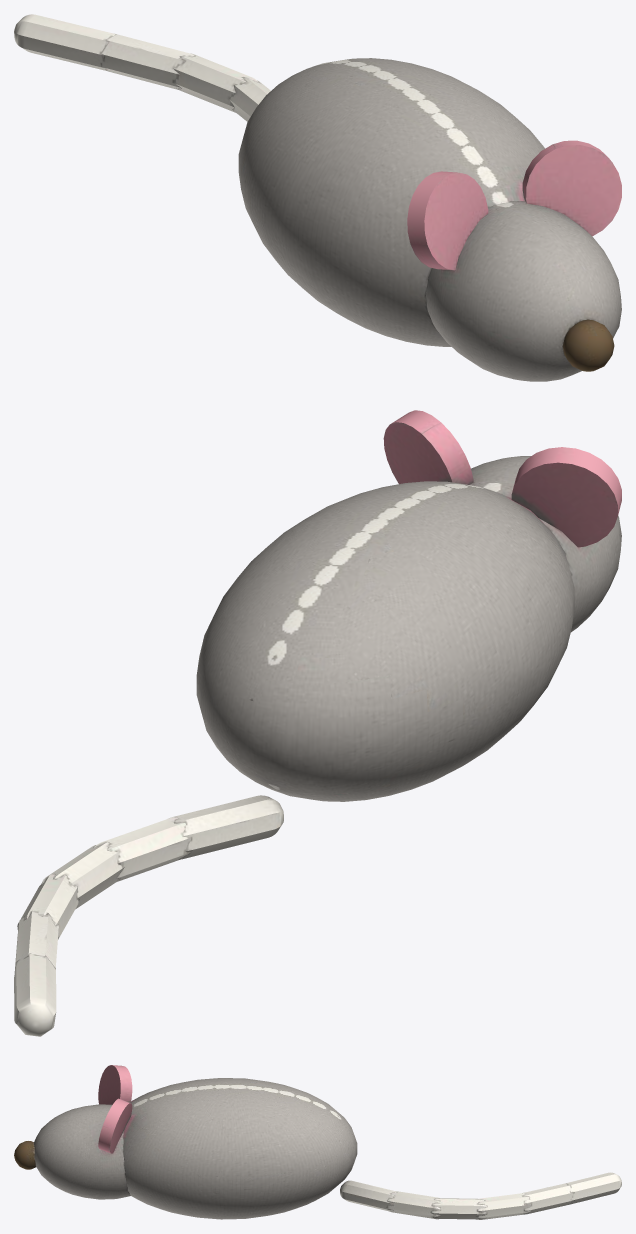
The model's file is mouse_toy.glb.
3 views of the same model, one above another, from view 1: azimuth 30°, elevation 25°; view 2: azimuth 150°, elevation 25°; view 3: azimuth 270°, elevation 25° (orthographic). The views are drawn at different scales.
Visible parts, largest first — view 1: mouse_toy; view 2: mouse_toy; view 3: mouse_toy.
Boxes of the visible parts, box(x1,y1,x2,y2) form: mouse_toy: box(14, 14, 621, 381); mouse_toy: box(14, 410, 621, 1036); mouse_toy: box(14, 1065, 621, 1219).
Bounding box in the file's own units: 0.0702 × 0.0619 × 0.2687.
Materials: 1 (1 with a texture image).
